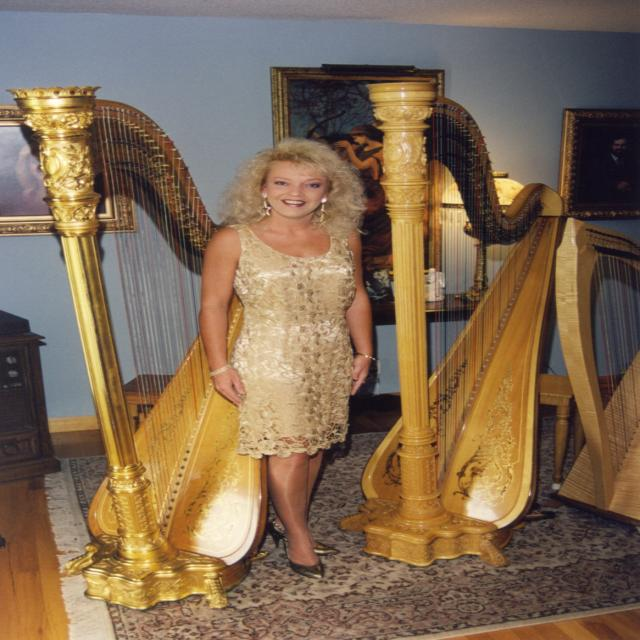harp: (4, 72, 293, 610), (336, 74, 568, 574), (550, 214, 640, 525)
